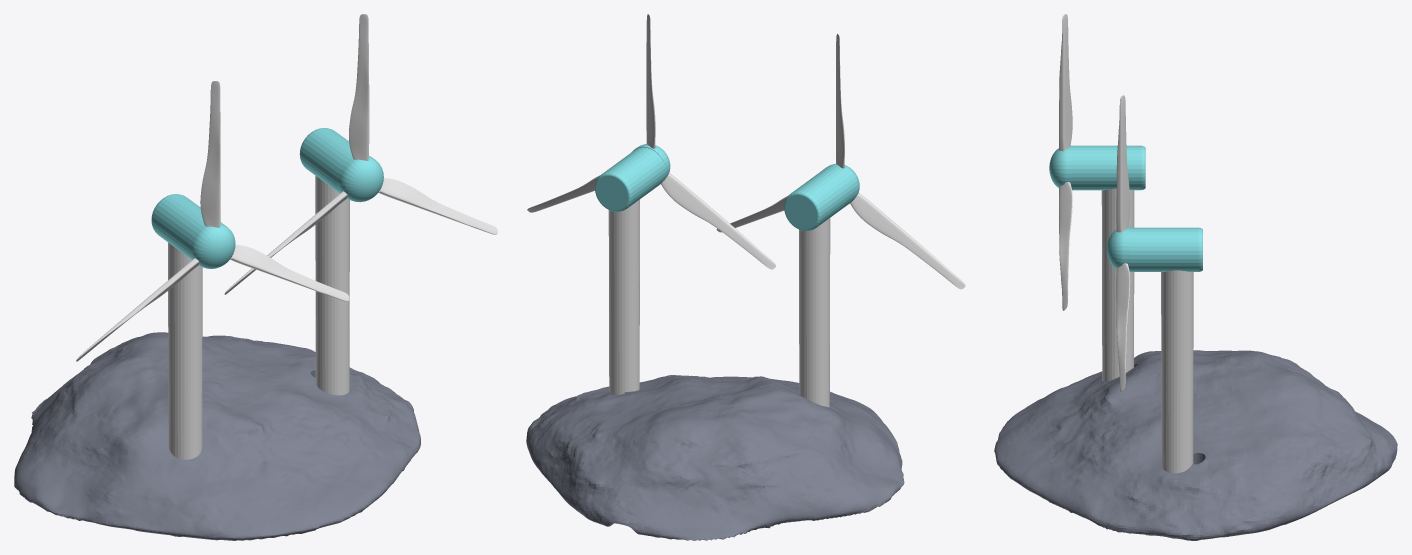
File: WindTurbine.fbx
3 renders of one model, left to right at view 1: azimuth 30°, elevation 25°; view 2: azimuth 150°, elevation 25°; view 3: azimuth 270°, elevation 25°, orthographic. The views are drawn at different scales.
Visible parts, largest first — view 1: HIGHPOLY.001, Cylinder.005, Cylinder.008, Cylinder.014, Cylinder.001, Cylinder.003, Cylinder.010, Cylinder.002, Cylinder.006; view 2: HIGHPOLY.001, Cylinder.008, Cylinder.005, Cylinder.001, Cylinder.014, Cylinder.003, Cylinder.010; view 3: HIGHPOLY.001, Cylinder.008, Cylinder.005, Cylinder.010, Cylinder.003, Cylinder.001, Cylinder.014, Cylinder.006, Cylinder.002.
Part boxes in pixels (bbox=[...]): HIGHPOLY.001: bbox=[14, 332, 420, 540]; Cylinder.005: bbox=[168, 242, 202, 459]; Cylinder.008: bbox=[315, 176, 349, 395]; Cylinder.014: bbox=[76, 81, 349, 361]; Cylinder.001: bbox=[224, 14, 497, 294]; Cylinder.003: bbox=[151, 194, 221, 259]; Cylinder.010: bbox=[299, 128, 356, 193]; Cylinder.002: bbox=[337, 156, 383, 202]; Cylinder.006: bbox=[189, 222, 235, 268]; HIGHPOLY.001: bbox=[526, 375, 904, 540]; Cylinder.008: bbox=[608, 199, 639, 394]; Cylinder.005: bbox=[799, 218, 830, 407]; Cylinder.001: bbox=[527, 14, 776, 269]; Cylinder.014: bbox=[716, 34, 965, 289]; Cylinder.003: bbox=[784, 166, 855, 230]; Cylinder.010: bbox=[595, 147, 665, 211]; HIGHPOLY.001: bbox=[994, 350, 1397, 540]; Cylinder.008: bbox=[1161, 270, 1193, 473]; Cylinder.005: bbox=[1101, 188, 1134, 381]; Cylinder.010: bbox=[1129, 227, 1202, 271]; Cylinder.003: bbox=[1072, 145, 1145, 190]; Cylinder.001: bbox=[1116, 95, 1130, 391]; Cylinder.014: bbox=[1059, 14, 1072, 310]; Cylinder.006: bbox=[1049, 145, 1072, 190]; Cylinder.002: bbox=[1107, 227, 1129, 270].
Bounding box in the file's own units: 17.74 × 16.45 × 14.59.
